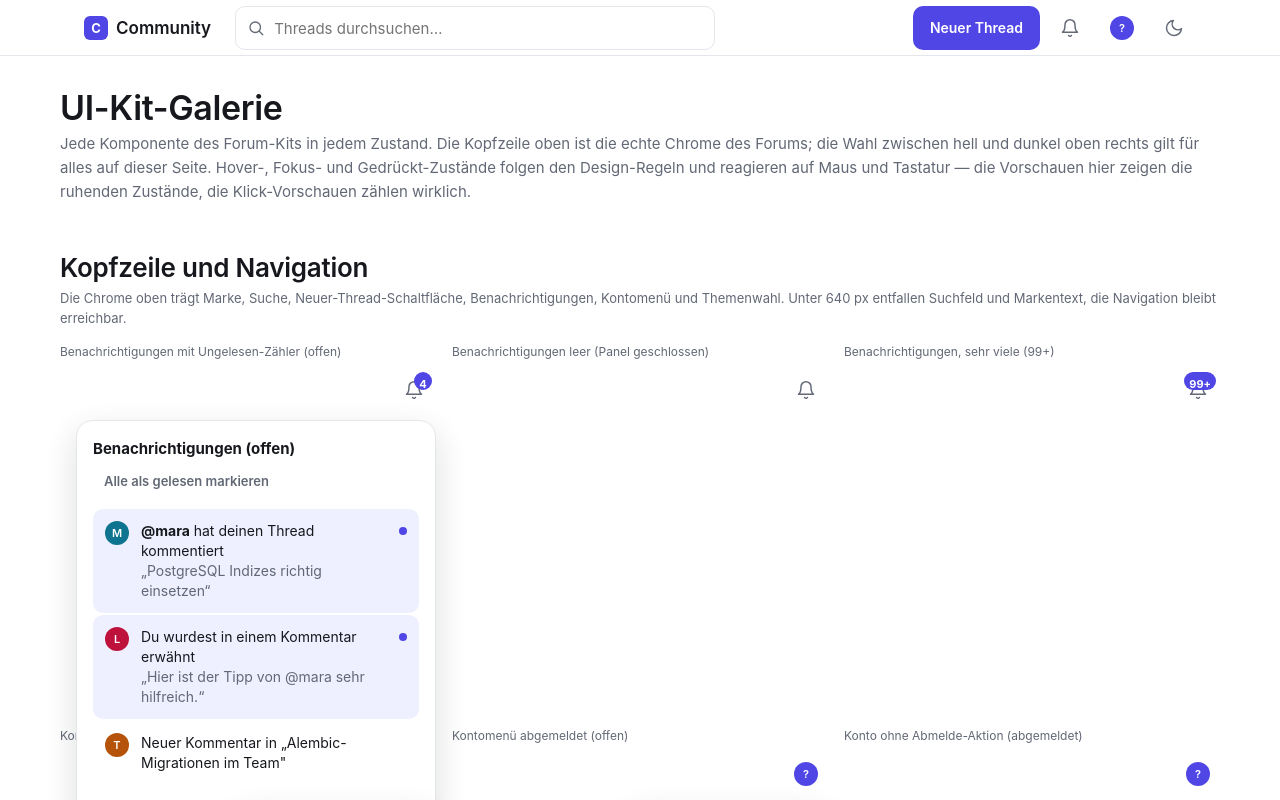
Test: forum UI kit gallery › opens the header notification panel with its empty state and closes it on Escape
Click the button named "Benachrichtigungen" at coordinates (1070, 28), box [1048,6,1092,50]
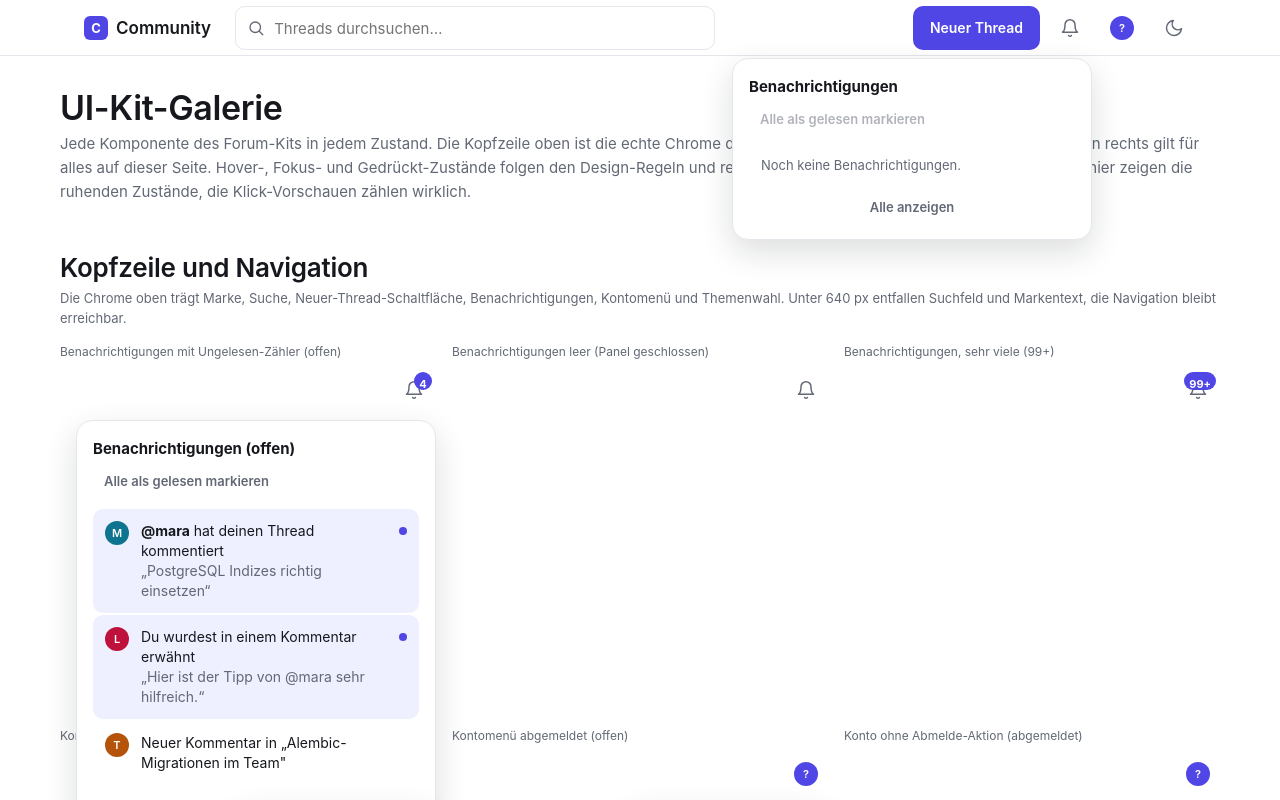
expect the text "Noch keine Benachrichtigungen." is shown: met, box [761,157,961,173]
expect the 1st button "Alle als gelesen markieren" is disabled: met, box [749,103,936,135]
Press Escape
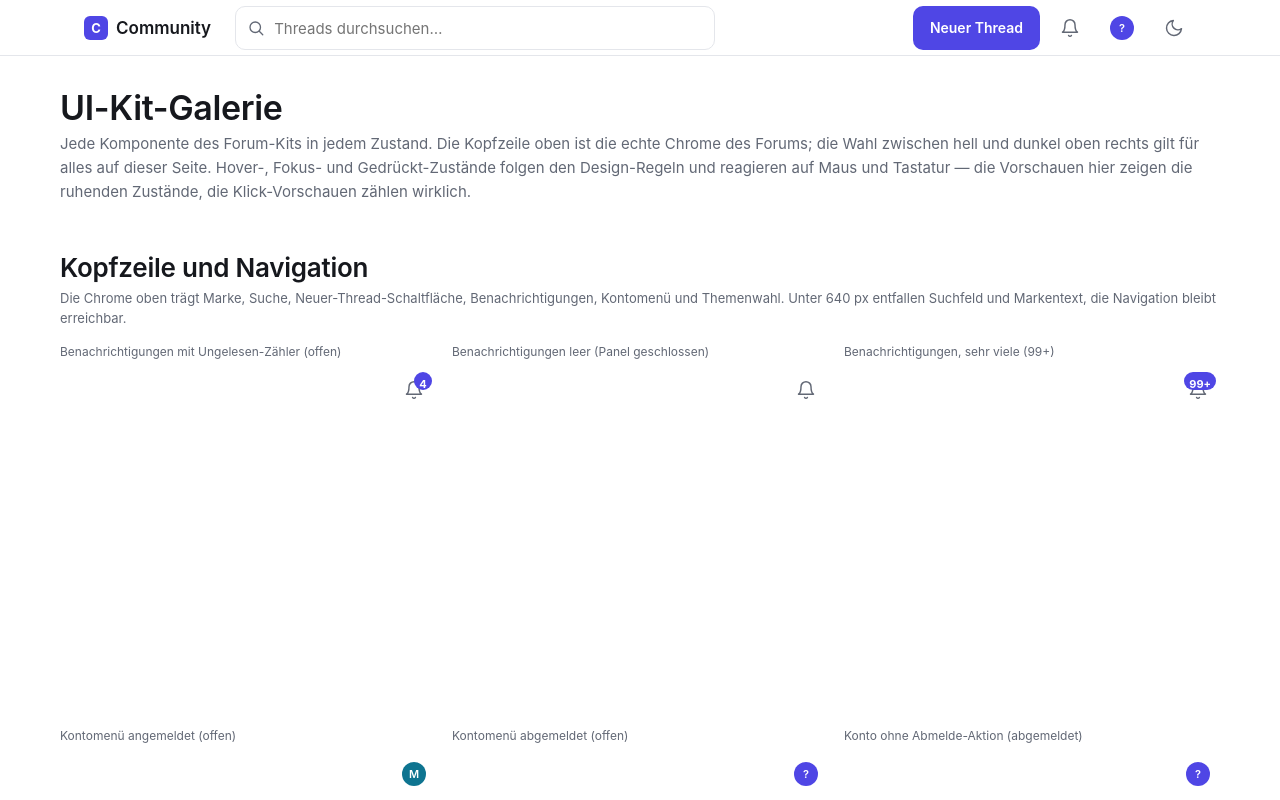
expect the text "Noch keine Benachrichtigungen." is gone: met
